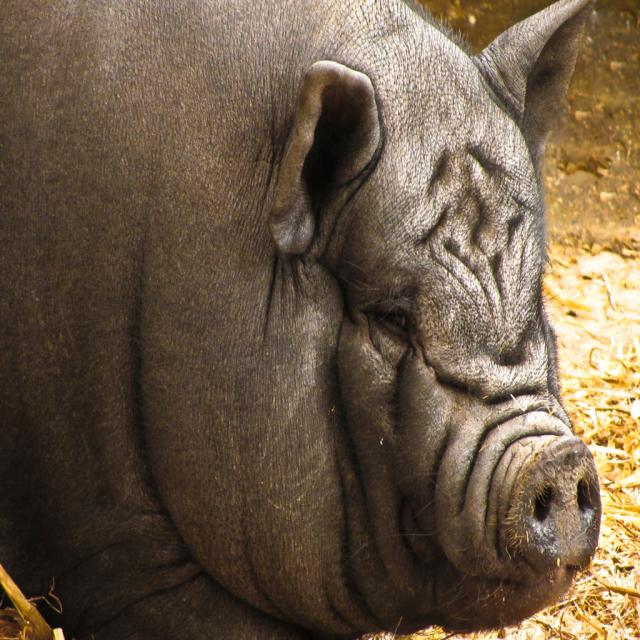Pig: (0, 0, 602, 639)
